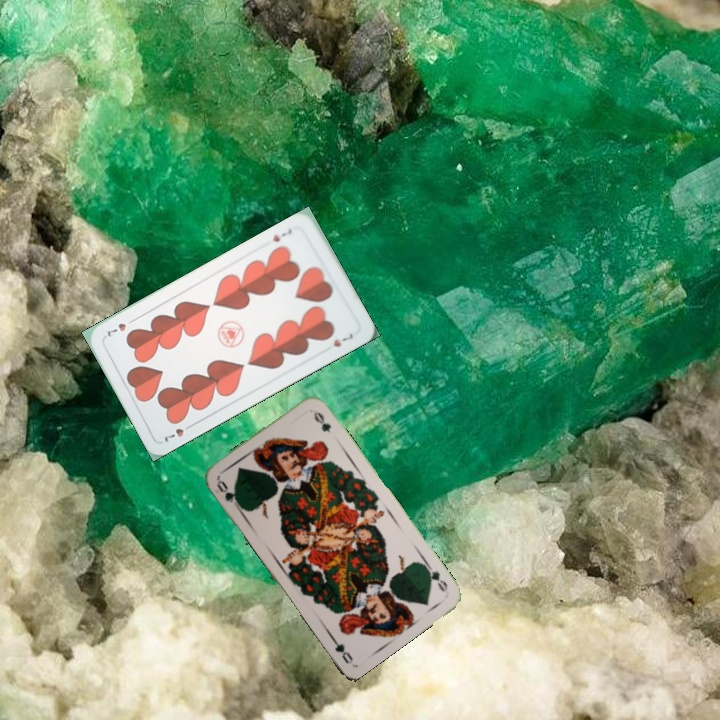GO: (213, 476, 244, 513), (421, 559, 450, 594)
H7: (159, 419, 196, 445), (269, 224, 294, 245)
